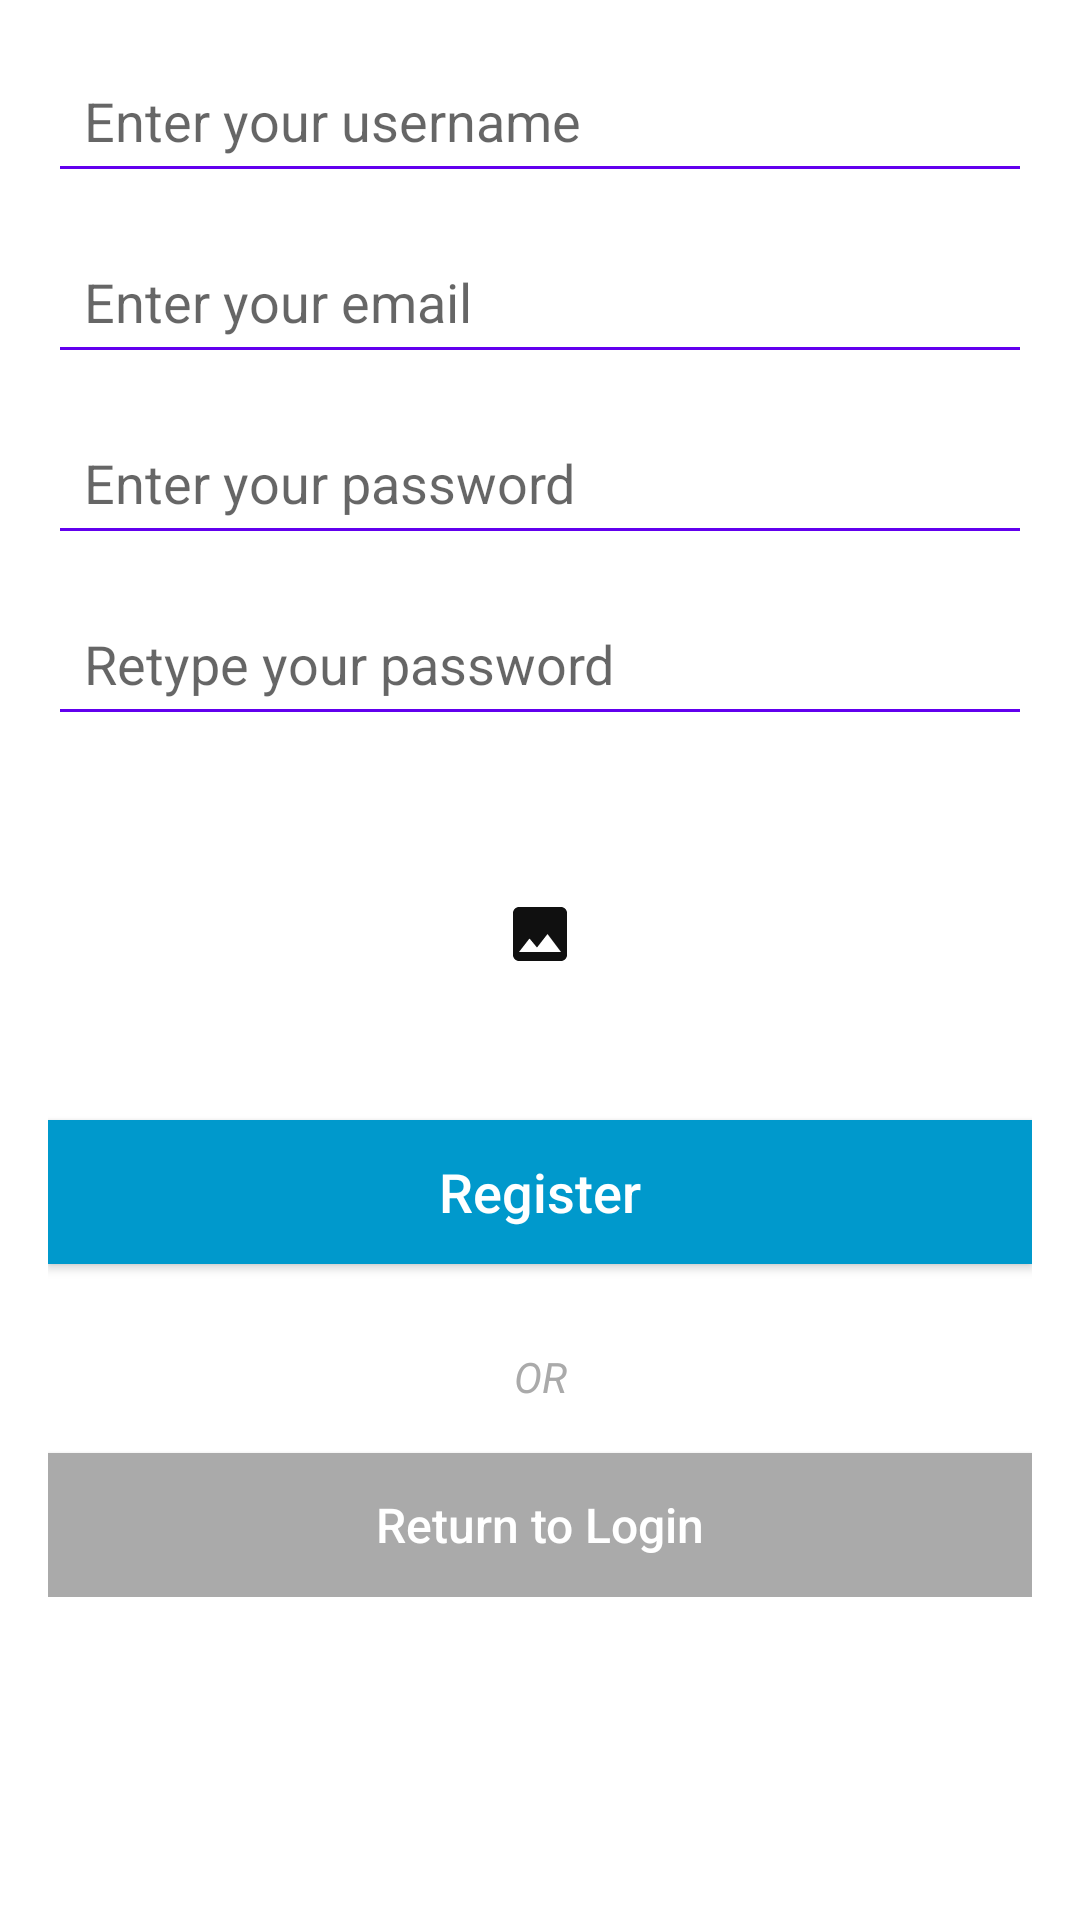

Where icons sit on this 1080px×1920px app screen, as region(x1, y1, x2, y2):
Select Profile Image: region(513, 907, 567, 961)
